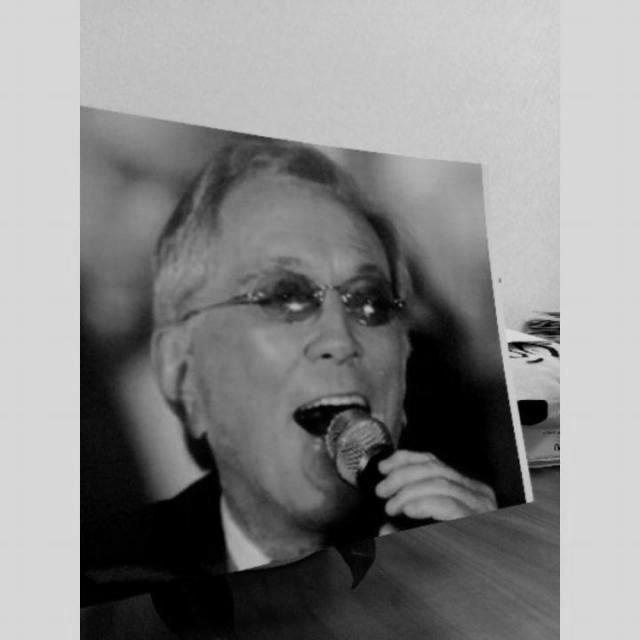fake: (81, 94, 535, 618)
